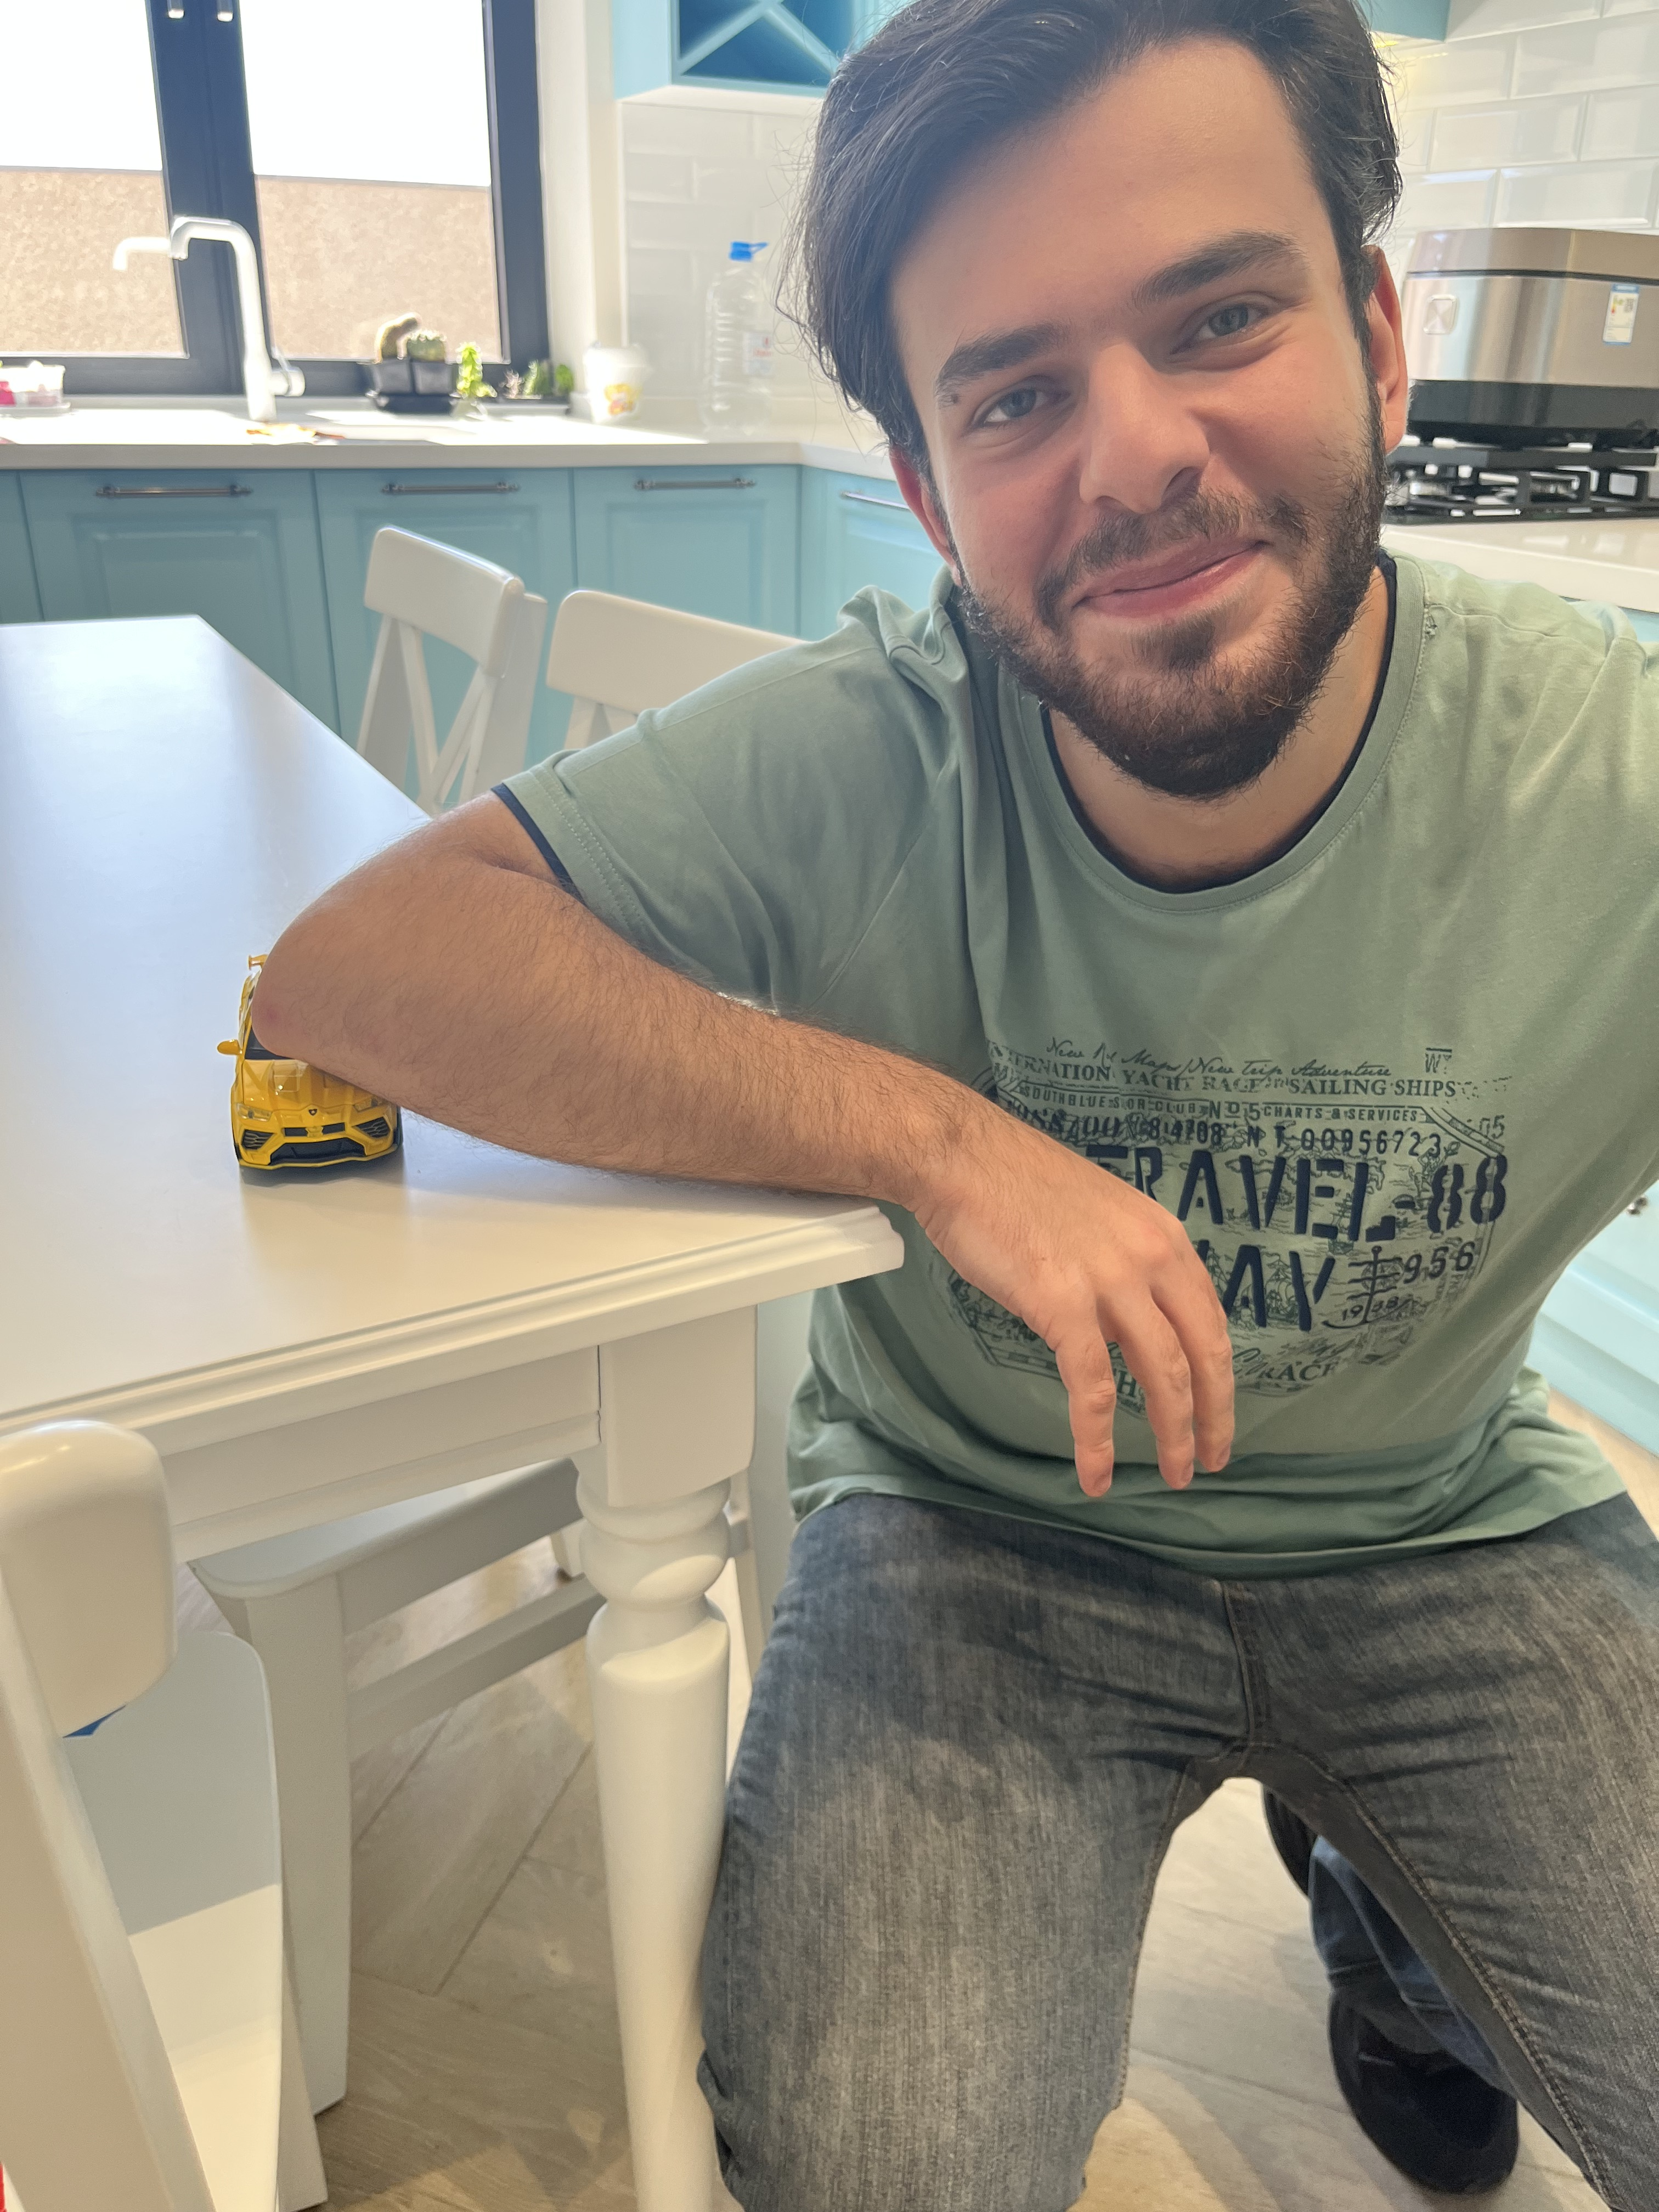lambo: (223, 949, 413, 1181)
